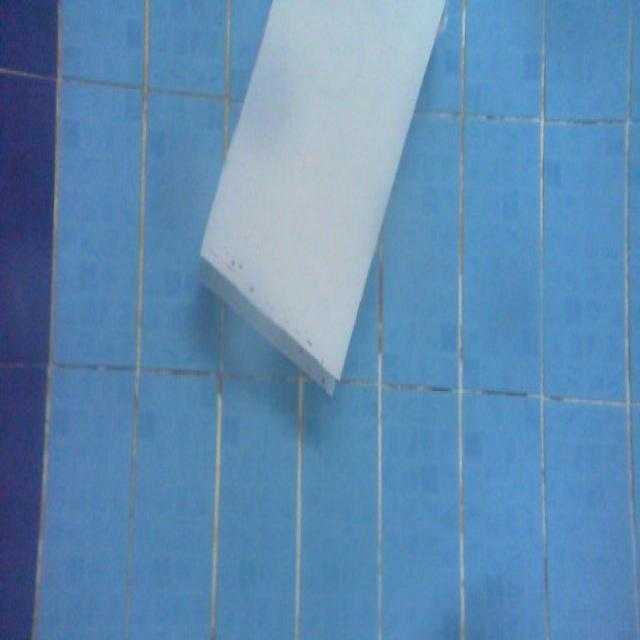Cuboid: (197, 0, 449, 396)
